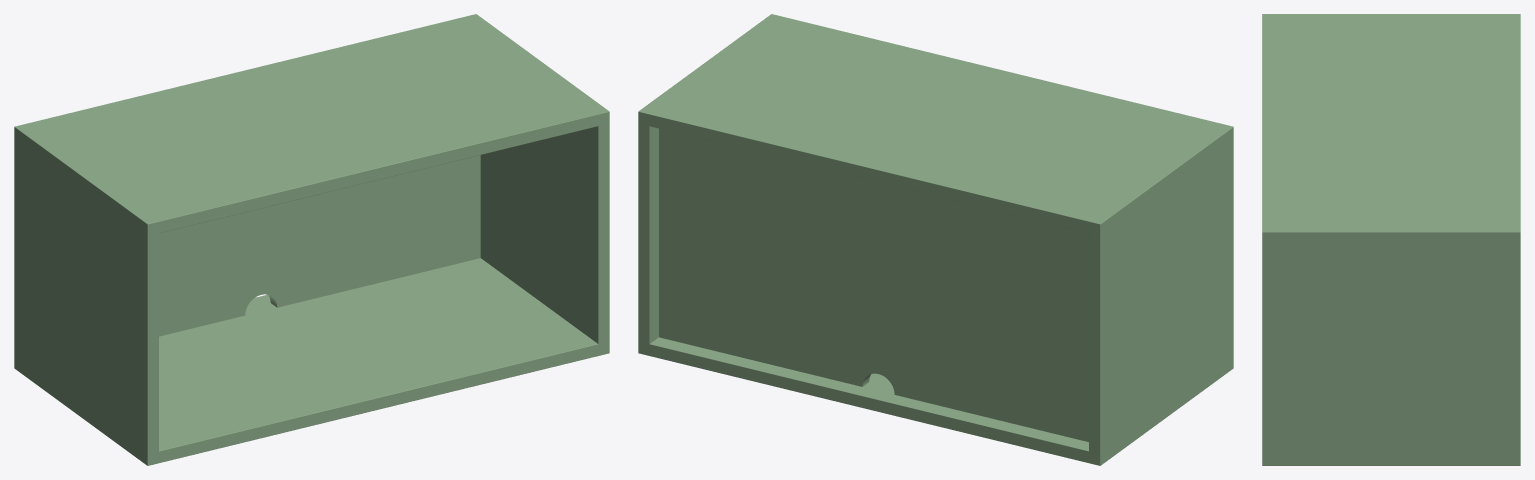
File: MOD-2X1-A-B-AP-SA.glb
3 views of the same model, side by side, from view 1: azimuth 30°, elevation 25°; view 2: azimuth 150°, elevation 25°; view 3: azimuth 270°, elevation 25° (orthographic). The views are drawn at different scales.
Size of the model in its own units: 720 by 360 by 360.
